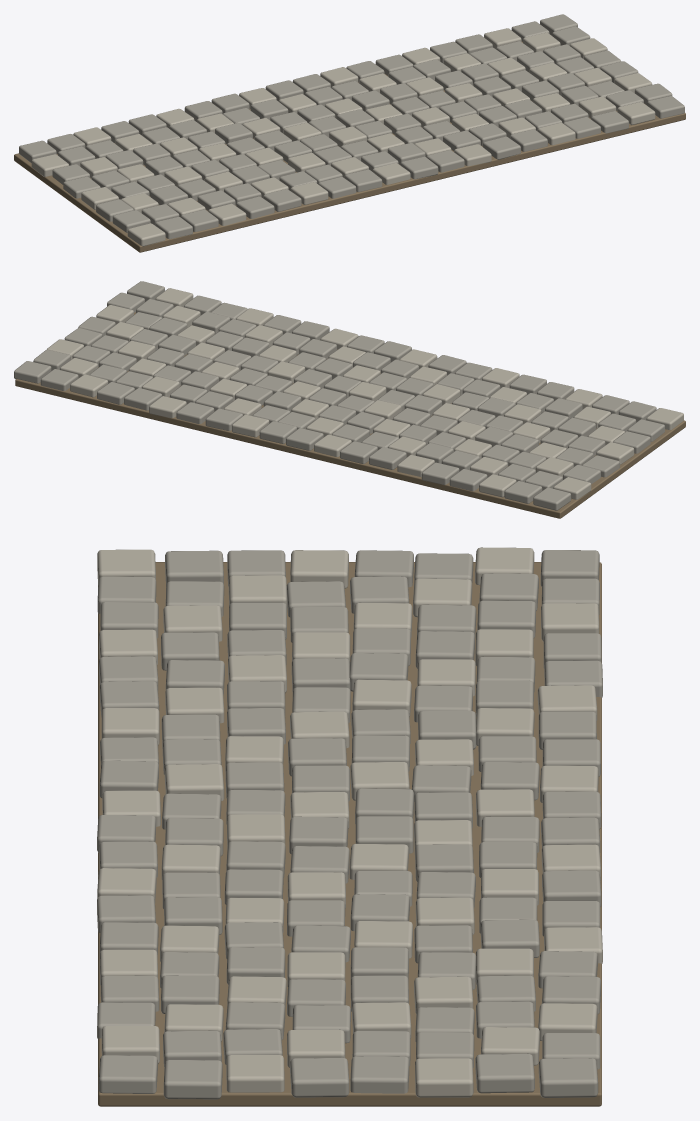
File: Prop_Cobbled_Road_10m_01.fbx
3 renders of one model, top to bottom at view 1: azimuth 30°, elevation 25°; view 2: azimuth 150°, elevation 25°; view 3: azimuth 270°, elevation 25°, orthographic. The views are drawn at different scales.
Parts seen in each view (by area): view 1: Cobble_RoadBase, Cobble_00_00, Cobble_13_00, Cobble_18_00, Cobble_19_00, Cobble_10_00, Cobble_05_00, Cobble_04_00, Cobble_06_00, Cobble_15_00, Cobble_17_00, Cobble_01_00 (+148 smaller); view 2: Cobble_RoadBase, Cobble_00_07, Cobble_06_07, Cobble_01_07, Cobble_19_07, Cobble_07_07, Cobble_11_07, Cobble_09_07, Cobble_04_07, Cobble_17_07, Cobble_03_07, Cobble_13_07 (+148 smaller); view 3: Cobble_RoadBase, Cobble_19_07, Cobble_19_01, Cobble_19_03, Cobble_19_05, Cobble_19_06, Cobble_19_00, Cobble_19_02, Cobble_19_04, Cobble_00_03, Cobble_16_05, Cobble_00_01 (+149 smaller).
Part boxes in pixels (left/top/right/bottom): Cobble_RoadBase: left=14, top=41, right=685, bottom=252; Cobble_00_00: left=127, top=223, right=165, bottom=246; Cobble_13_00: left=483, top=136, right=520, bottom=159; Cobble_18_00: left=617, top=102, right=655, bottom=125; Cobble_19_00: left=647, top=96, right=684, bottom=118; Cobble_10_00: left=400, top=156, right=438, bottom=179; Cobble_05_00: left=263, top=189, right=301, bottom=211; Cobble_04_00: left=236, top=196, right=274, bottom=218; Cobble_06_00: left=290, top=182, right=328, bottom=204; Cobble_15_00: left=537, top=122, right=575, bottom=145; Cobble_17_00: left=591, top=111, right=628, bottom=133; Cobble_01_00: left=155, top=216, right=192, bottom=239; Cobble_RoadBase: left=15, top=312, right=685, bottom=518; Cobble_00_07: left=533, top=487, right=571, bottom=510; Cobble_06_07: left=369, top=447, right=406, bottom=469; Cobble_01_07: left=504, top=481, right=542, bottom=503; Cobble_19_07: left=14, top=361, right=51, bottom=383; Cobble_07_07: left=340, top=441, right=377, bottom=463; Cobble_11_07: left=232, top=414, right=269, bottom=437; Cobble_09_07: left=286, top=428, right=323, bottom=450; Cobble_04_07: left=421, top=462, right=459, bottom=484; Cobble_17_07: left=70, top=374, right=108, bottom=397; Cobble_03_07: left=449, top=469, right=487, bottom=491; Cobble_13_07: left=176, top=402, right=214, bottom=423; Cobble_RoadBase: left=98, top=562, right=601, bottom=1106; Cobble_19_07: left=538, top=1058, right=598, bottom=1097; Cobble_19_01: left=163, top=1060, right=222, bottom=1099; Cobble_19_03: left=290, top=1057, right=349, bottom=1097; Cobble_19_05: left=415, top=1058, right=473, bottom=1097; Cobble_19_06: left=475, top=1053, right=534, bottom=1093; Cobble_19_00: left=98, top=1055, right=157, bottom=1093; Cobble_19_02: left=226, top=1055, right=284, bottom=1092; Cobble_19_04: left=350, top=1056, right=409, bottom=1093; Cobble_00_03: left=290, top=550, right=348, bottom=588; Cobble_16_05: left=414, top=976, right=473, bottom=1013; Cobble_00_01: left=165, top=550, right=223, bottom=586.
Size of the model in its own units: 1007 by 26.5 by 402.
